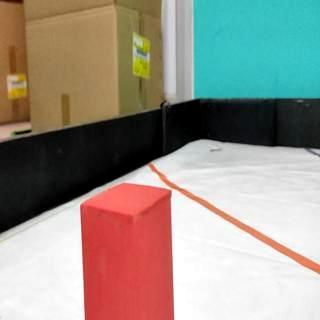redbox: (80, 181, 174, 320)
